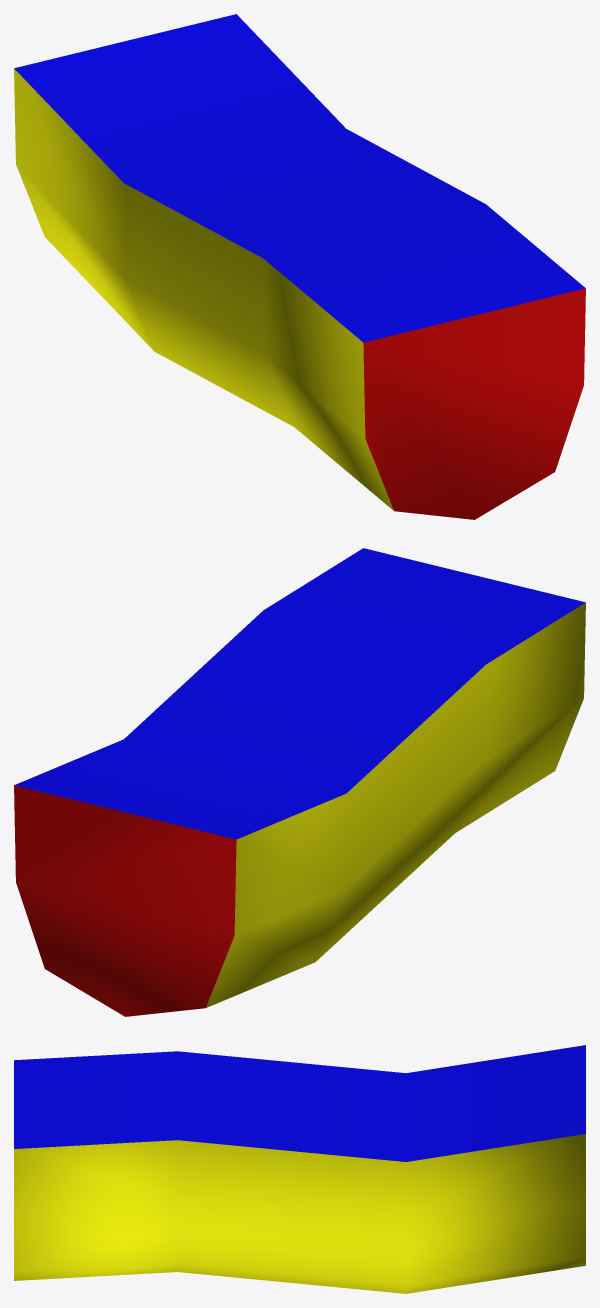
The picture shows the model from 3 angles, top to bottom: view 1: azimuth 30°, elevation 25°; view 2: azimuth 150°, elevation 25°; view 3: azimuth 270°, elevation 25°; orthographic projection. The views are drawn at different scales.
Visible parts, largest first — view 1: polySurface117; view 2: polySurface117; view 3: polySurface117.
Part boxes in pixels (x1=…): polySurface117: x1=14, y1=14, x2=585, y2=519; polySurface117: x1=14, y1=548, x2=585, y2=1016; polySurface117: x1=14, y1=1045, x2=585, y2=1293.
Bounding box in the file's own units: 23.58 × 24.18 × 64.12.
